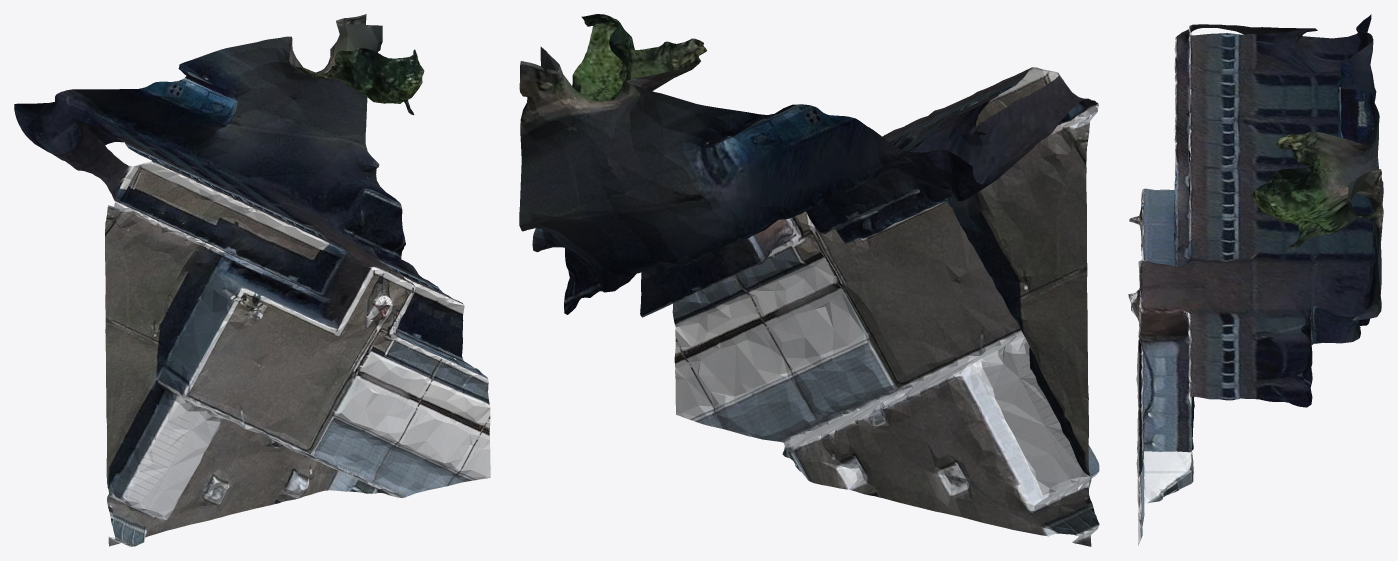
File: Tile_+038_+019_L21_00011100.obj
3 renders of one model, left to right at view 1: azimuth 30°, elevation 25°; view 2: azimuth 150°, elevation 25°; view 3: azimuth 270°, elevation 25°, orthographic. The views are drawn at different scales.
Size of the model in its own units: 31.31 by 31.31 by 19.95.
Materials: 1 (1 with a texture image).
